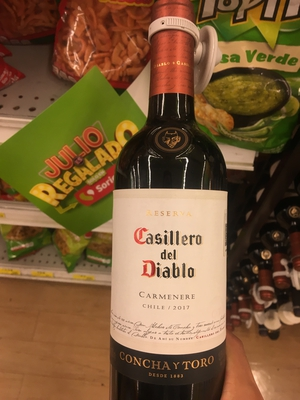casillero del diablo carmenere: (104, 4, 247, 400)
